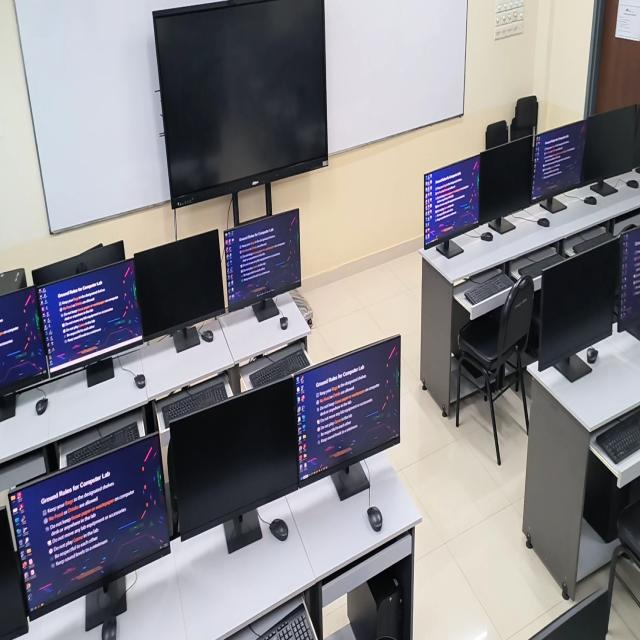Chair: (607, 484, 640, 603), (510, 95, 538, 140), (486, 120, 508, 149)
Cpu: (347, 556, 411, 639)
Digital board: (154, 0, 328, 217)
Keyboard: (156, 373, 229, 428), (240, 342, 312, 392), (67, 422, 140, 466), (594, 409, 640, 464), (258, 606, 315, 639), (464, 273, 513, 304), (570, 227, 613, 257), (518, 253, 564, 279)
Monitor: (9, 434, 170, 619), (168, 377, 299, 540), (294, 335, 400, 484), (37, 260, 142, 377), (538, 238, 620, 371), (133, 229, 225, 340), (224, 209, 301, 311), (0, 287, 49, 397), (424, 156, 480, 248), (478, 136, 533, 223), (581, 105, 640, 184), (531, 121, 586, 203), (32, 241, 125, 284), (0, 507, 28, 639), (618, 228, 640, 338)
Mouse: (270, 519, 288, 540), (368, 506, 382, 532), (102, 616, 117, 639), (36, 396, 48, 415), (587, 347, 598, 364), (134, 374, 146, 388), (201, 329, 213, 342), (480, 232, 493, 241), (537, 218, 550, 227), (583, 196, 597, 204), (626, 180, 640, 188), (280, 317, 288, 330)
